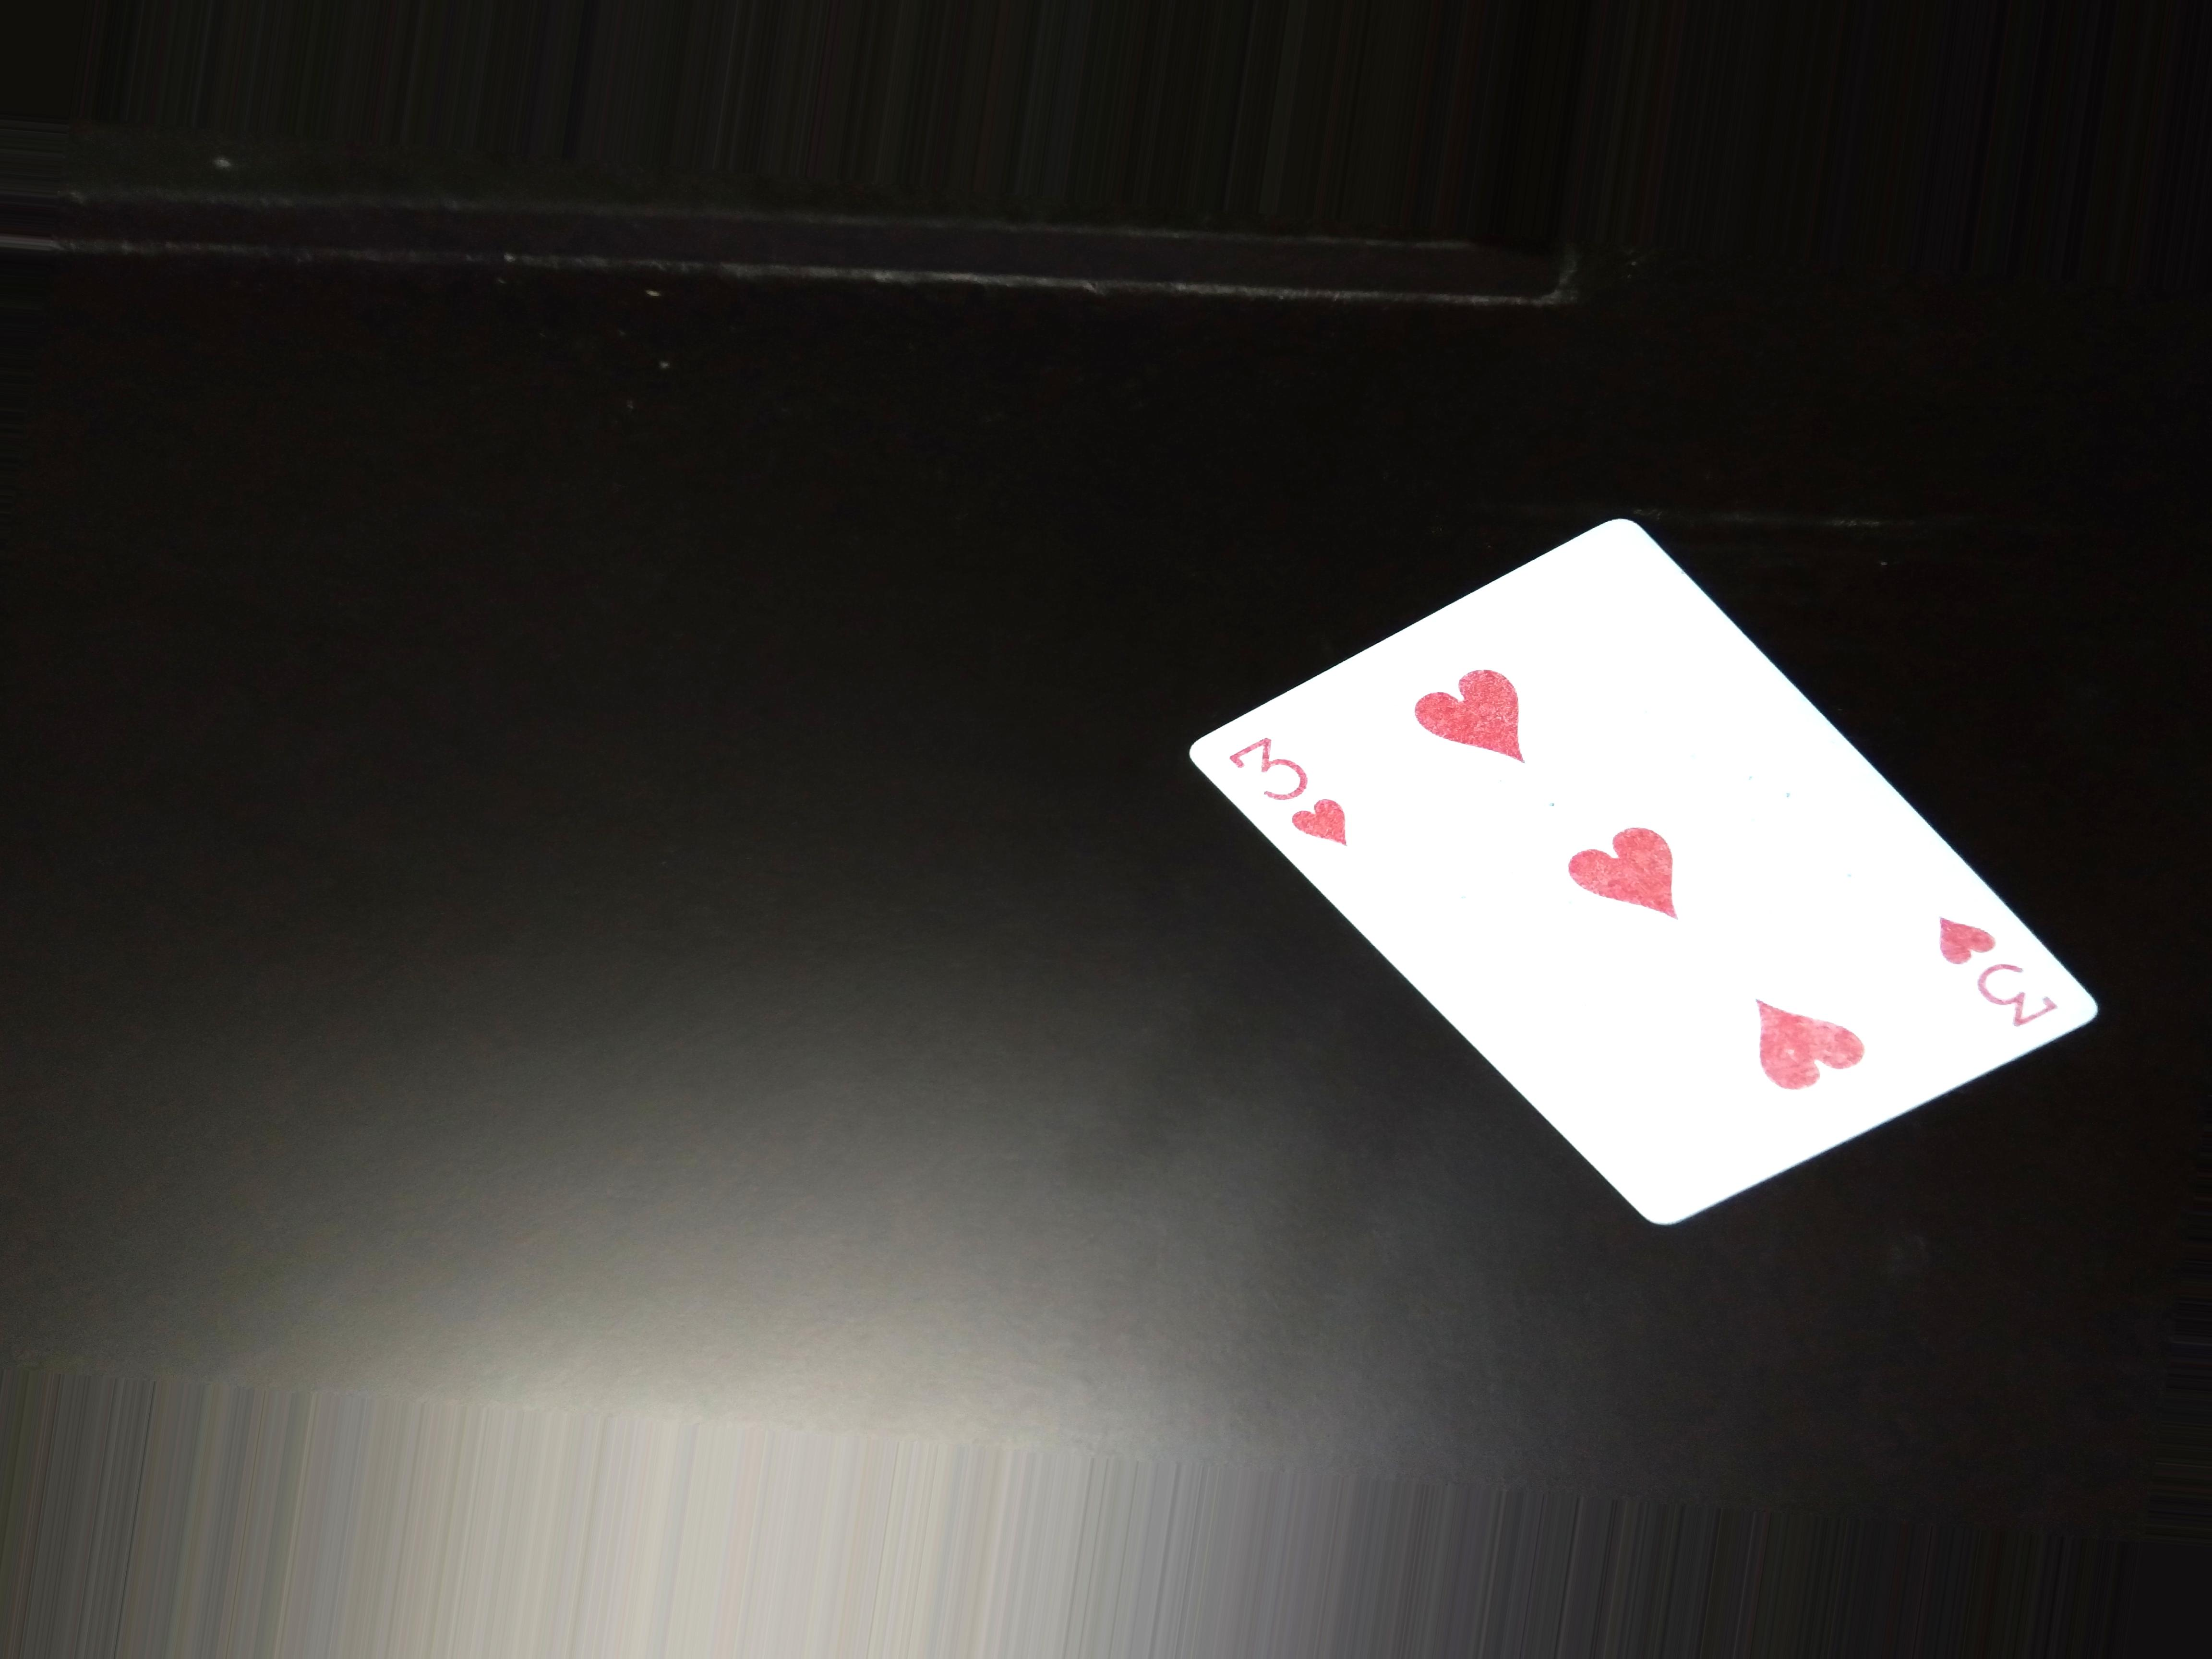3H: (1925, 901, 2059, 1039)
